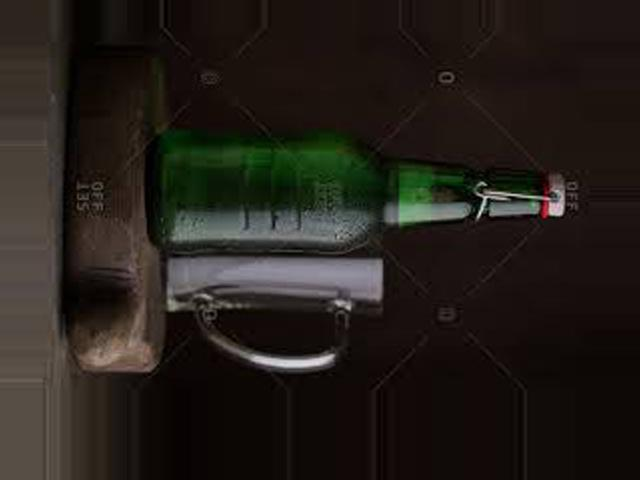beer: (145, 134, 563, 250)
